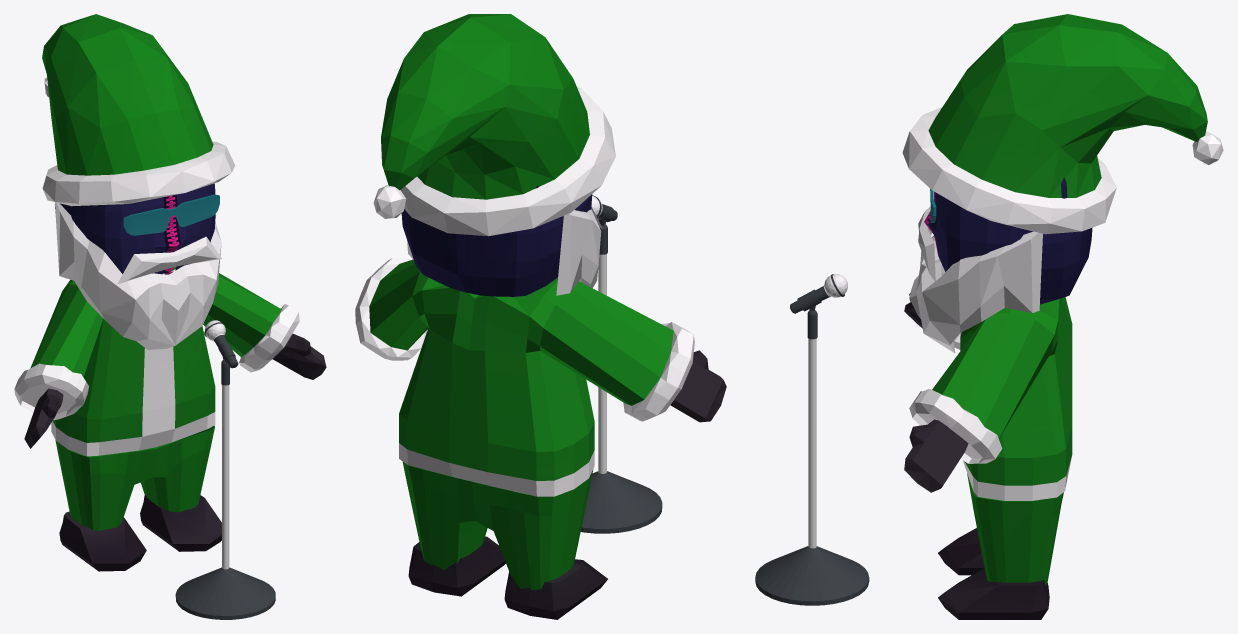
The model's file is santa_e2.glb.
3 renders of one model, left to right at view 1: azimuth 30°, elevation 25°; view 2: azimuth 150°, elevation 25°; view 3: azimuth 270°, elevation 25°, orthographic. The views are drawn at different scales.
Visible parts, largest first — view 1: hontai.001, boushi, hige-e, zubon, stand, eoh, kutu-r, kutu-l, sunguras, hanahige-e, maiku; view 2: hontai.001, boushi, zubon, eoh, stand, kutu-r, kutu-l, hige-e; view 3: boushi, hontai.001, hige-e, stand, eoh, zubon, kutu-l, kutu-r, hanahige-e, maiku.
Part boxes in pixels (box(x1,y1,x2,y2)): hontai.001: box(14, 267, 326, 456); boushi: box(42, 14, 235, 206); hige-e: box(55, 202, 221, 349); zubon: box(55, 425, 214, 530); stand: box(175, 360, 275, 619); eoh: box(54, 183, 215, 274); kutu-r: box(59, 511, 146, 571); kutu-l: box(140, 495, 221, 551); sunguras: box(123, 194, 219, 235); hanahige-e: box(117, 236, 221, 284); maiku: box(205, 320, 238, 368); hontai.001: box(355, 258, 726, 496); boushi: box(373, 14, 615, 236); zubon: box(402, 462, 593, 589); eoh: box(401, 185, 592, 296); stand: box(580, 224, 662, 533); kutu-r: box(504, 559, 607, 619); kutu-l: box(408, 536, 505, 596); hige-e: box(407, 209, 601, 295); boushi: box(902, 14, 1223, 234); hontai.001: box(904, 275, 1072, 500); hige-e: box(916, 231, 1042, 353); stand: box(755, 310, 869, 605); eoh: box(924, 178, 1092, 304); zubon: box(967, 473, 1063, 585); kutu-l: box(938, 568, 1049, 619); kutu-r: box(938, 528, 984, 575); hanahige-e: box(918, 206, 935, 281); maiku: box(790, 274, 847, 313).
Bounding box in the file's own units: 5.46 × 8.98 × 6.77.
17 materials, 16 textured.
